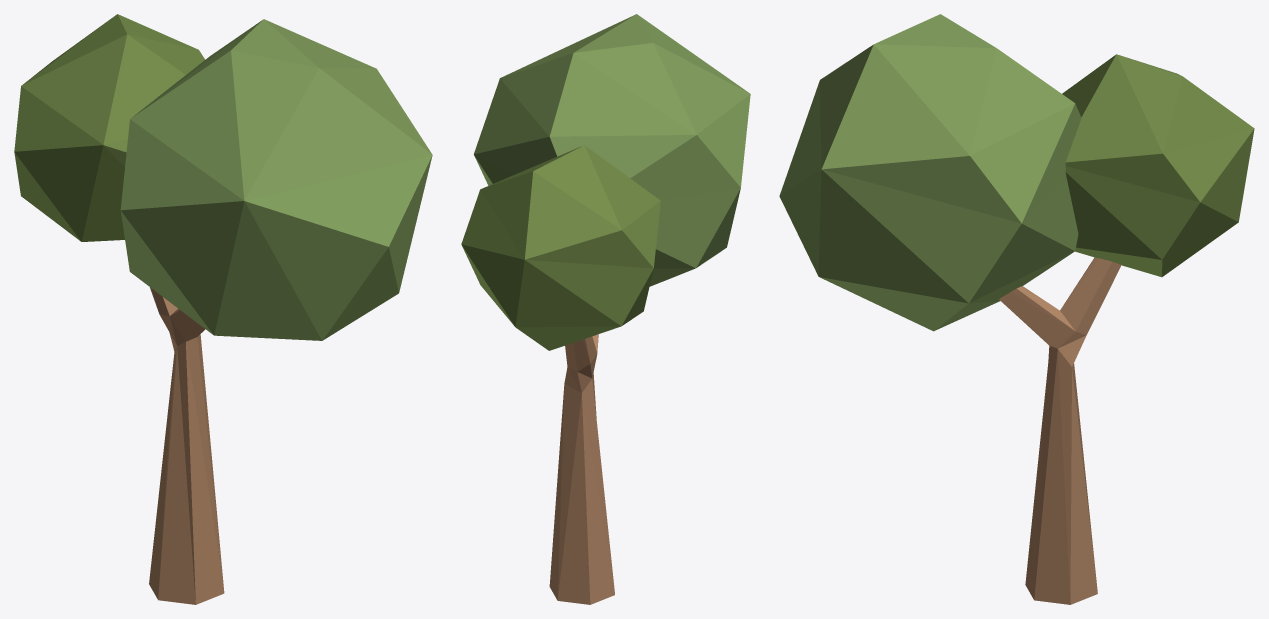
The model's file is Tree2.dae.
The picture shows the model from 3 angles, left to right: view 1: azimuth 30°, elevation 25°; view 2: azimuth 150°, elevation 25°; view 3: azimuth 270°, elevation 25°; orthographic projection. The views are drawn at different scales.
Visible parts, largest first — view 1: Cylinder_009; view 2: Cylinder_009; view 3: Cylinder_009.
Boxes of the visible parts, x1,y1,x2,y2 form: Cylinder_009: (14, 14, 432, 604); Cylinder_009: (461, 14, 750, 604); Cylinder_009: (779, 14, 1254, 604).
Bounding box in the file's own units: 0.7181 × 1.13 × 1.48.
